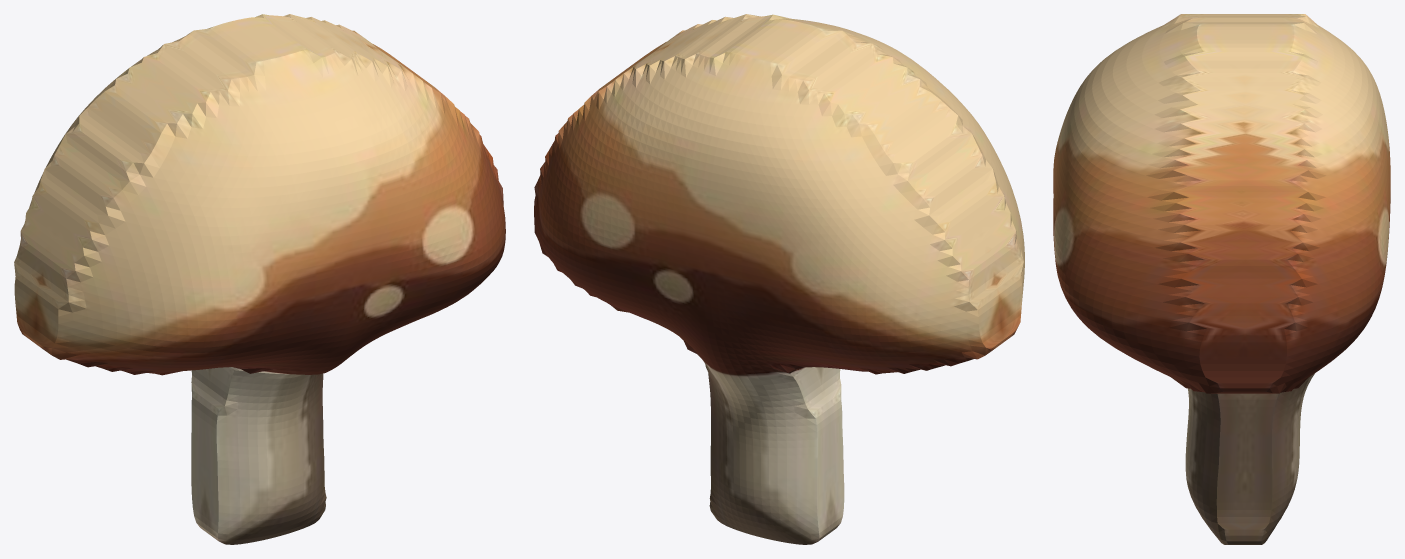
File: mushroom.glb
The picture shows the model from 3 angles, left to right: view 1: azimuth 30°, elevation 25°; view 2: azimuth 150°, elevation 25°; view 3: azimuth 270°, elevation 25°; orthographic projection.
Parts seen in each view (by area): view 1: geometry_0; view 2: geometry_0; view 3: geometry_0.
Boxes of the visible parts, x1,y1,x2,y2 form: geometry_0: [14, 14, 505, 544]; geometry_0: [534, 14, 1024, 544]; geometry_0: [1053, 14, 1390, 544].
Bounding box in the file's own units: 2.4 × 2.48 × 1.56.
Materials: 1 (1 with a texture image).
